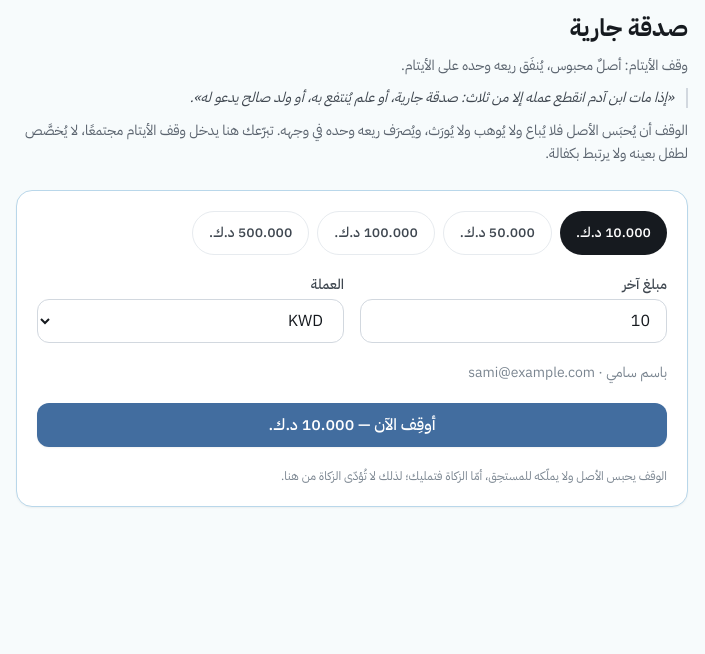
Test: DonorWaqfPage — the contribution form › a gateway failure shows a message AND a retry button, never a bare description
Step 1. Click the button "أوقِف الآن — 10.000 د.ك." → (352, 424), box [37, 402, 667, 446]
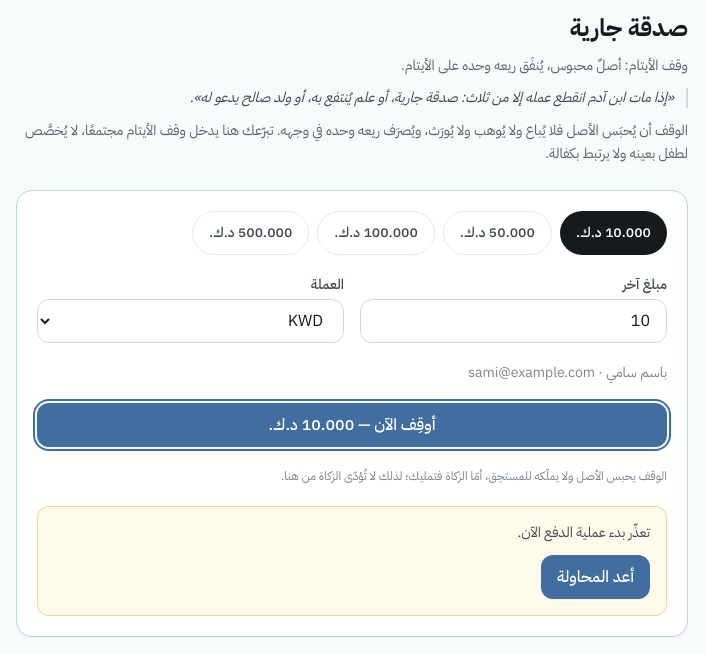
Now the message shows "تعذّر بدء عملية الدفع الآن.", box [518, 522, 650, 543]
Now the button "أعد المحاولة" is shown, box [541, 555, 650, 599]
